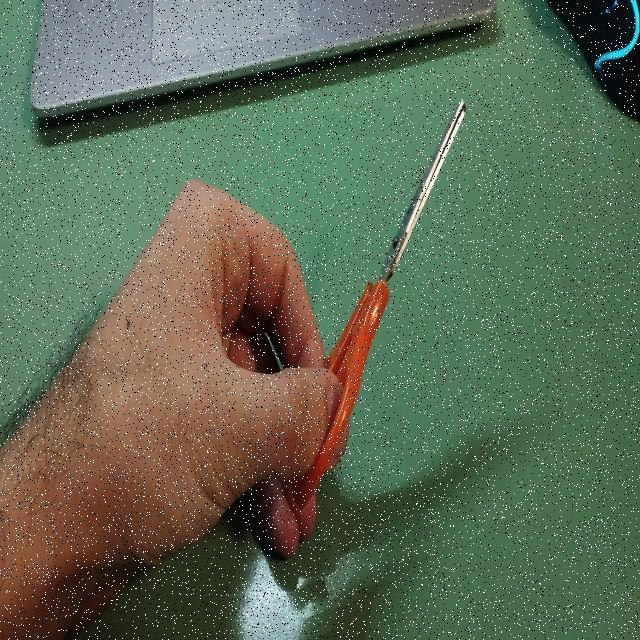scissors: (288, 89, 470, 511)
